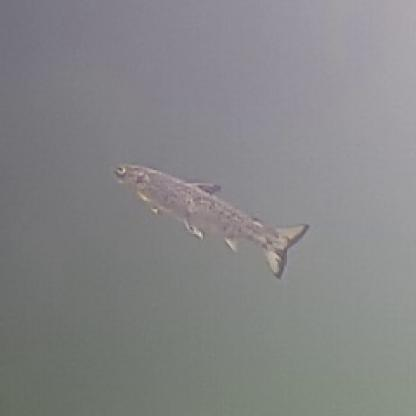salmon: (104, 156, 312, 281)
